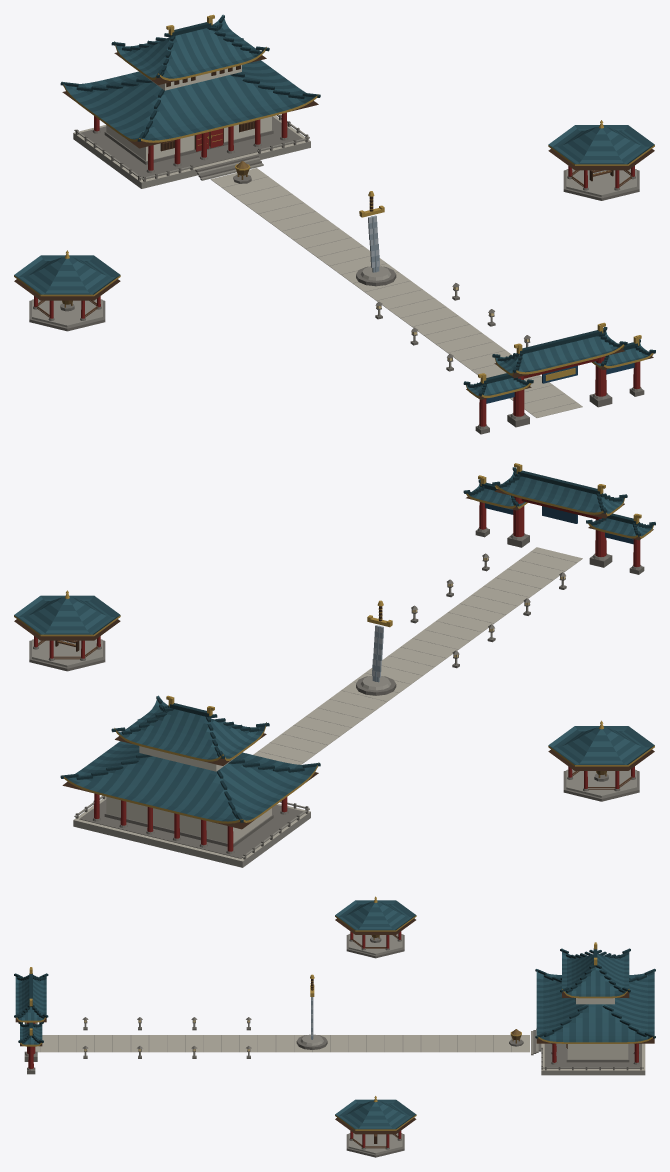
The model's file is arch_sect.d75e50b14a.glb.
The picture shows the model from 3 angles, top to bottom: view 1: azimuth 30°, elevation 25°; view 2: azimuth 150°, elevation 25°; view 3: azimuth 270°, elevation 25°; orthographic projection. The views are drawn at different scales.
Parts seen in each view (by area): view 1: arch_lac_kiem_tong; view 2: arch_lac_kiem_tong; view 3: arch_lac_kiem_tong.
Part boxes in pixels (x1=…): arch_lac_kiem_tong: x1=14, y1=14, x2=655, y2=434; arch_lac_kiem_tong: x1=14, y1=463, x2=655, y2=867; arch_lac_kiem_tong: x1=14, y1=896, x2=655, y2=1157.
Size of the model in its own units: 120 by 22.59 by 142.
